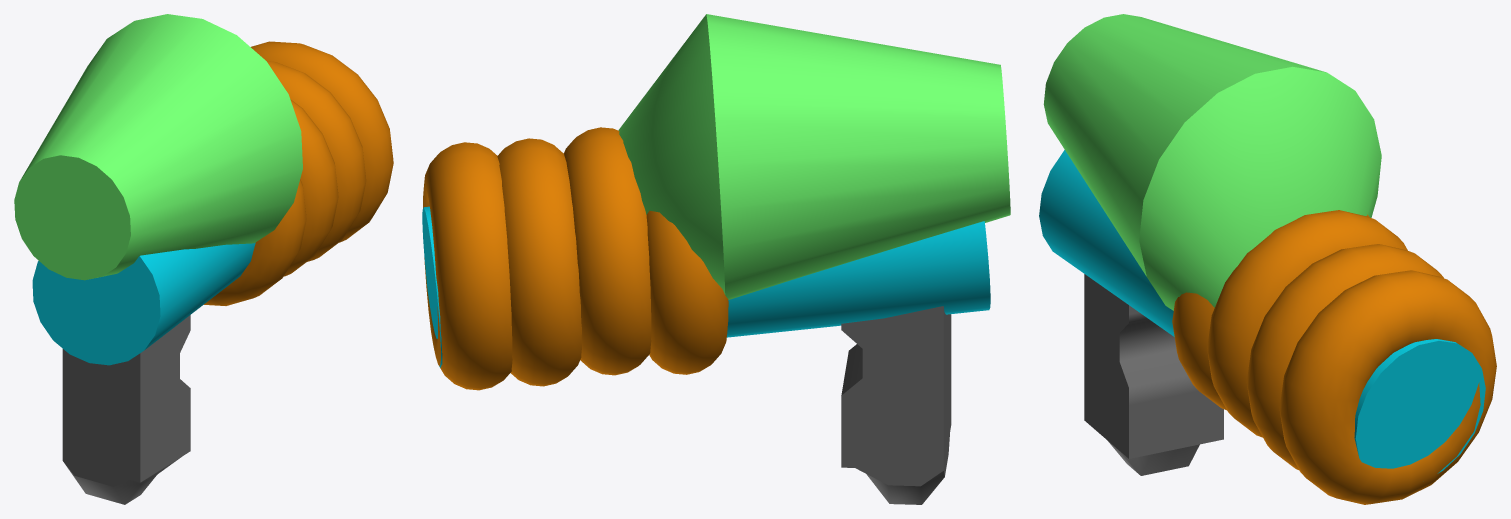
File: watergun.fbx
3 views of the same model, side by side, from view 1: azimuth 30°, elevation 25°; view 2: azimuth 150°, elevation 25°; view 3: azimuth 270°, elevation 25° (orthographic). The views are drawn at different scales.
Visible parts, largest first — view 1: pCylinder2, pCube1, pCylinder1, pTorus1, pTorus2, pTorus3, pTorus4; view 2: pCylinder2, pCube1, pCylinder1, pTorus1, pTorus3, pTorus2, pTorus4; view 3: pCylinder2, pTorus1, pCylinder1, pCube1, pTorus3, pTorus2, pTorus4.
Boxes of the visible parts, x1,y1,x2,y2 form: pCylinder2: [14, 14, 302, 280]; pCube1: [62, 315, 190, 504]; pCylinder1: [32, 242, 255, 365]; pTorus1: [251, 41, 393, 242]; pTorus2: [266, 61, 366, 261]; pTorus3: [284, 99, 338, 276]; pTorus4: [204, 179, 306, 305]; pCylinder2: [618, 14, 1010, 299]; pCube1: [841, 306, 951, 504]; pCylinder1: [422, 206, 990, 367]; pTorus1: [423, 142, 512, 390]; pTorus3: [563, 127, 651, 375]; pTorus2: [497, 138, 581, 386]; pTorus4: [646, 210, 728, 374]; pCylinder2: [1043, 14, 1381, 310]; pTorus1: [1279, 270, 1496, 504]; pCylinder1: [1039, 150, 1485, 473]; pCube1: [1084, 274, 1223, 475]; pTorus3: [1207, 210, 1407, 437]; pTorus2: [1246, 244, 1443, 469]; pTorus4: [1172, 214, 1369, 410].
Size of the model in its own units: 2.15 by 1.91 by 1.71.
